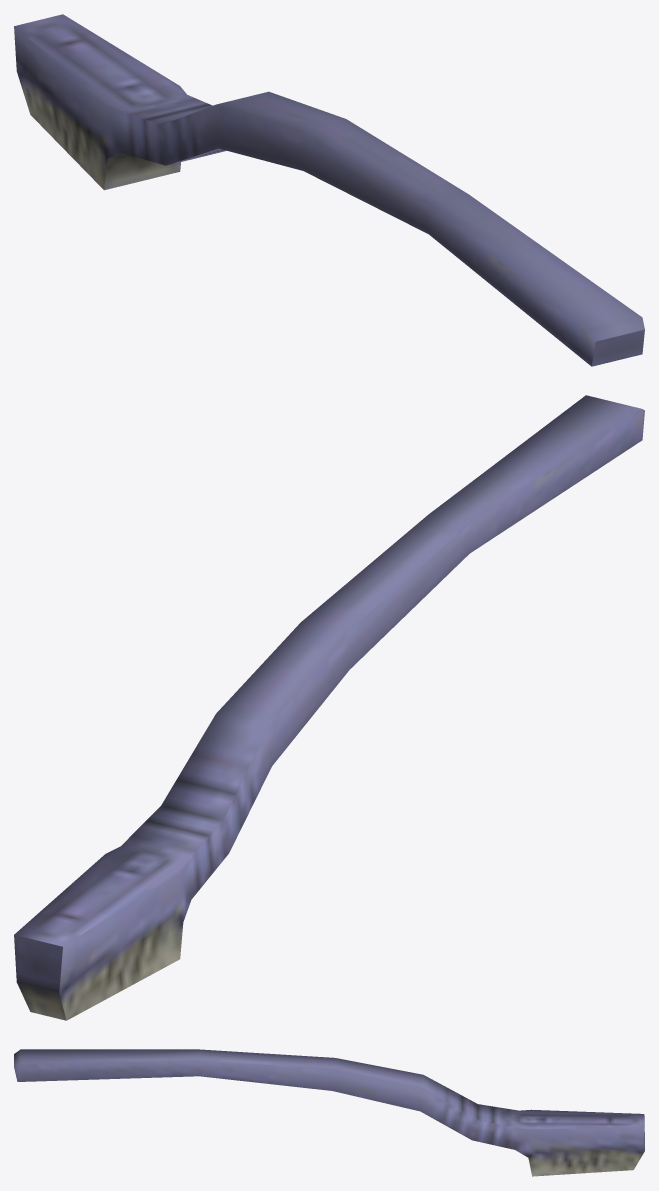
Rendered from toothbrush_blue.DAE.
3 views of the same model, one above another, from view 1: azimuth 30°, elevation 25°; view 2: azimuth 150°, elevation 25°; view 3: azimuth 270°, elevation 25° (orthographic). The views are drawn at different scales.
Visible parts, largest first — view 1: Box001; view 2: Box001; view 3: Box001.
Boxes of the visible parts, box(x1,y1,x2,y2) form: Box001: box(14, 14, 644, 366); Box001: box(14, 395, 644, 1020); Box001: box(14, 1049, 644, 1176).
Bounding box in the file's own units: 0.0259 × 0.0671 × 0.3435.
